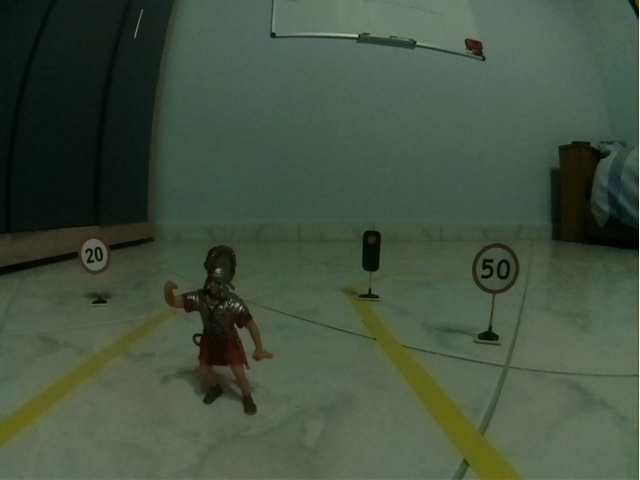Person: (164, 244, 273, 417)
Red Traffic Light: (362, 230, 381, 272)
Speed Limit 20: (78, 236, 111, 274)
Speed Limit 50: (472, 243, 520, 295)
